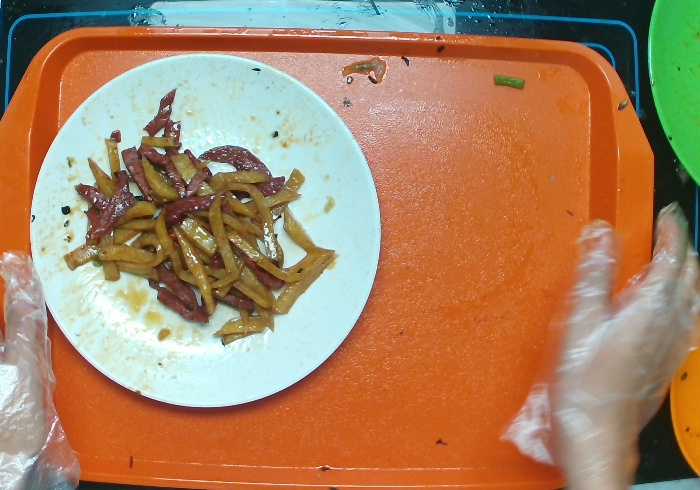HZYJPL-Bai_Se_Yuan_Pan: (23, 46, 394, 415)
